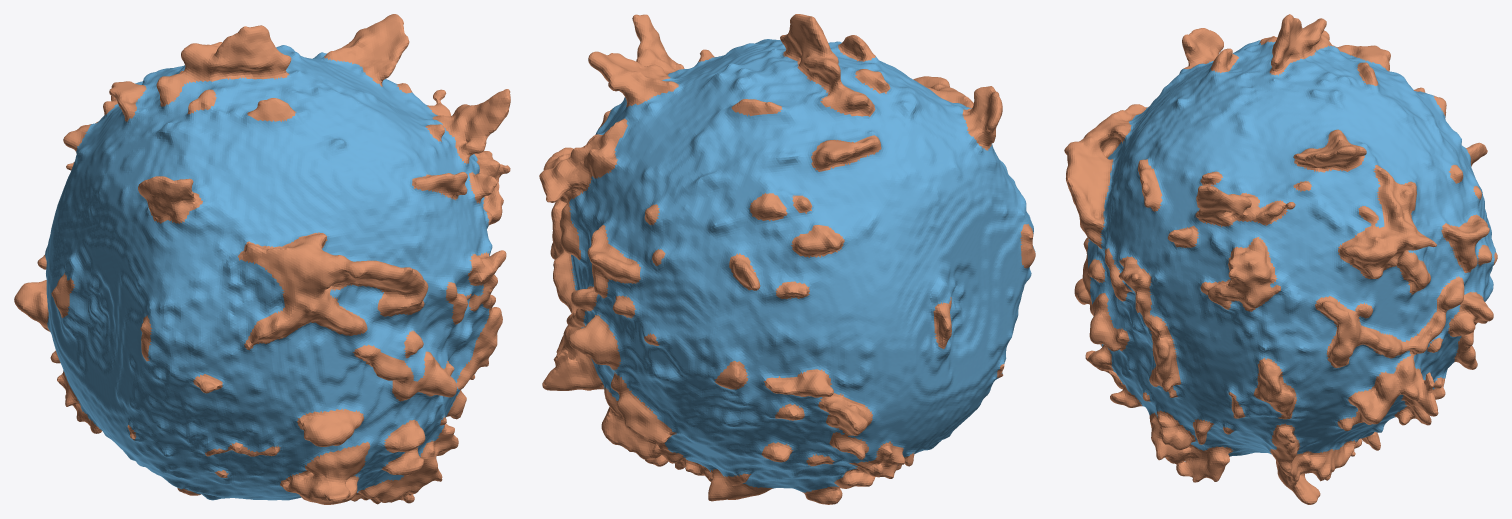
3 renders of one model, left to right at view 1: azimuth 30°, elevation 25°; view 2: azimuth 150°, elevation 25°; view 3: azimuth 270°, elevation 25°, orthographic. The views are drawn at different scales.
Size of the model in its own units: 149 by 167 by 155.
